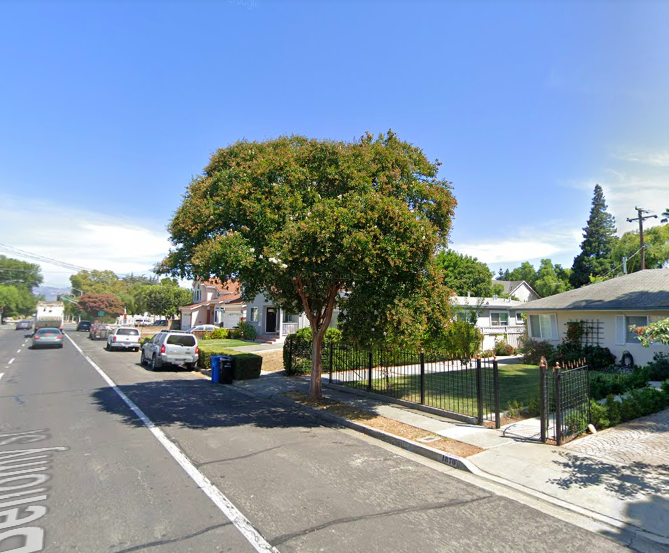tree: (150, 126, 459, 401)
